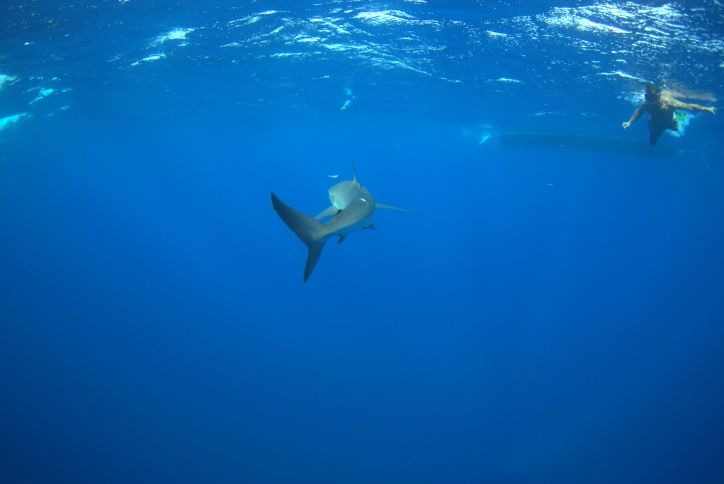Sedoso: (268, 157, 424, 292)
